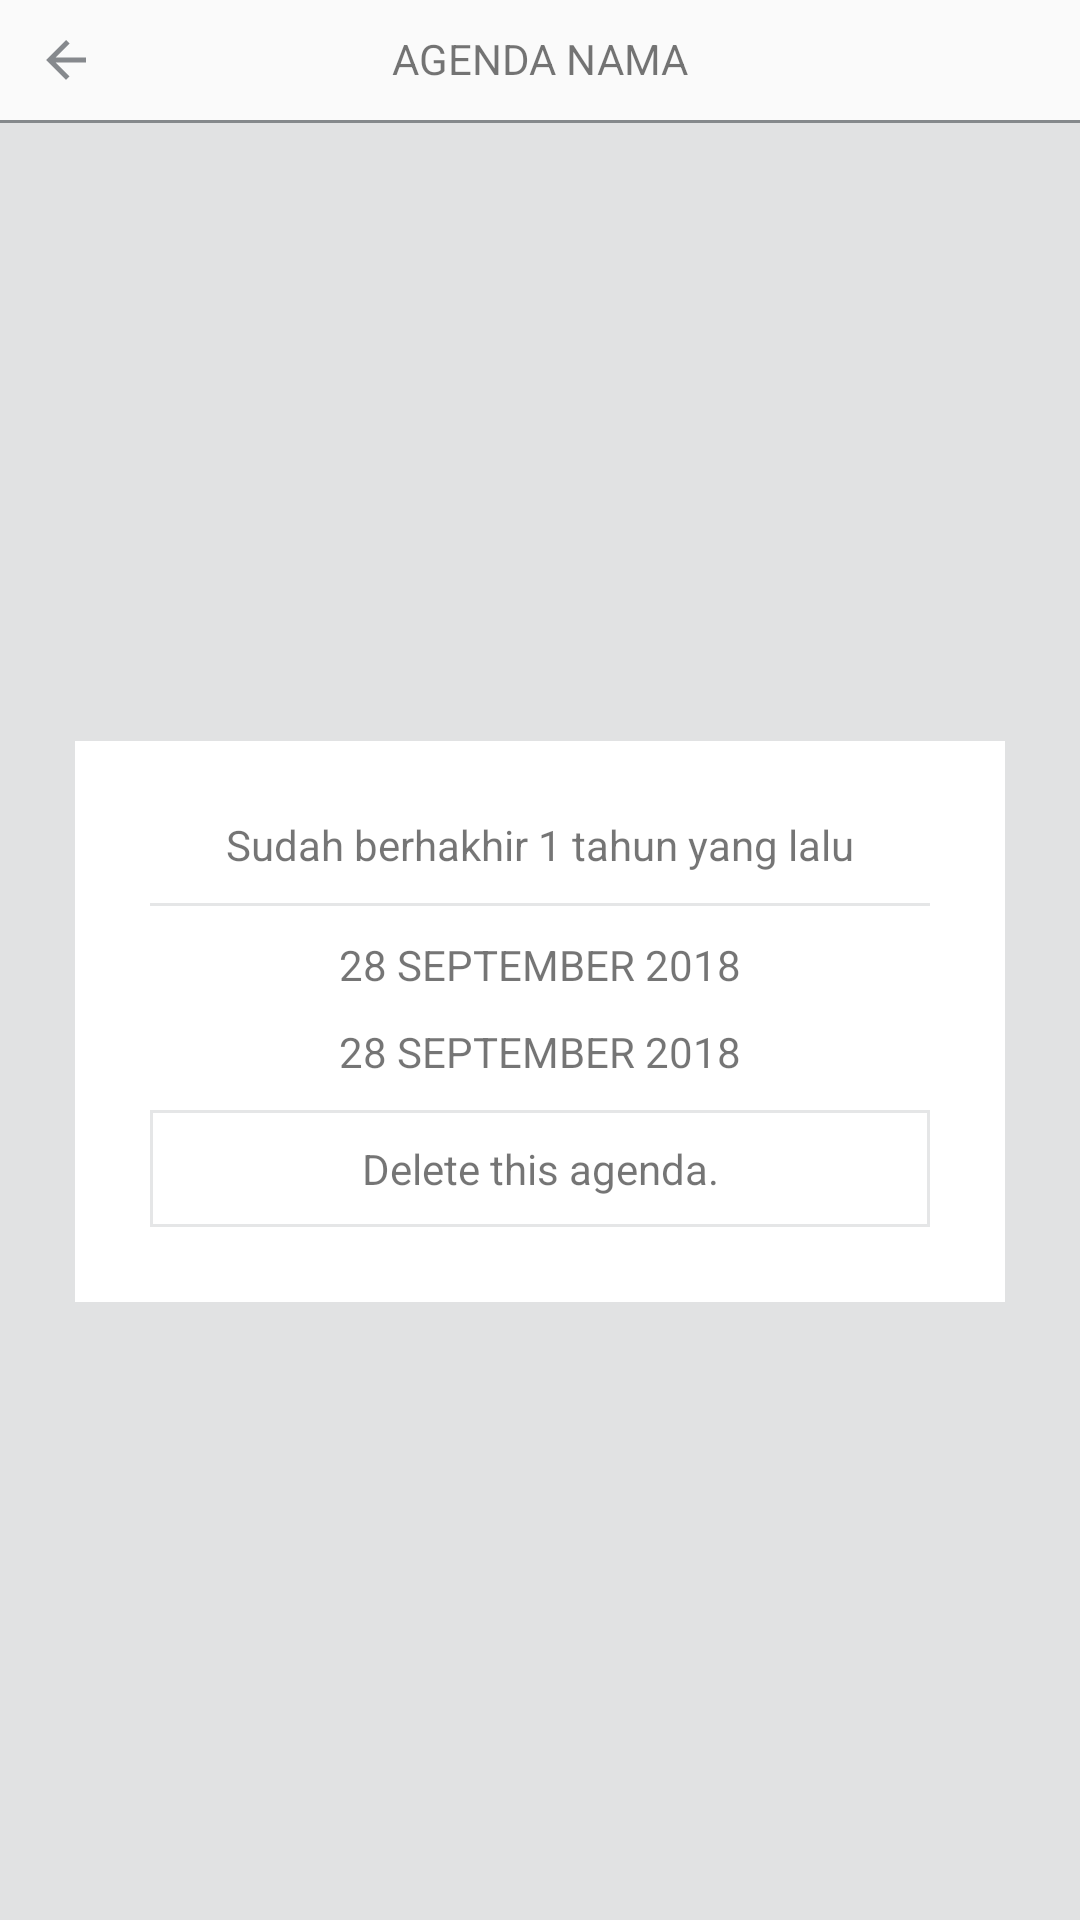

Icons on this 1080 × 1920 Android screen, each with the point to tap as (x=x, y=y):
arrow back: (x=66, y=60)
